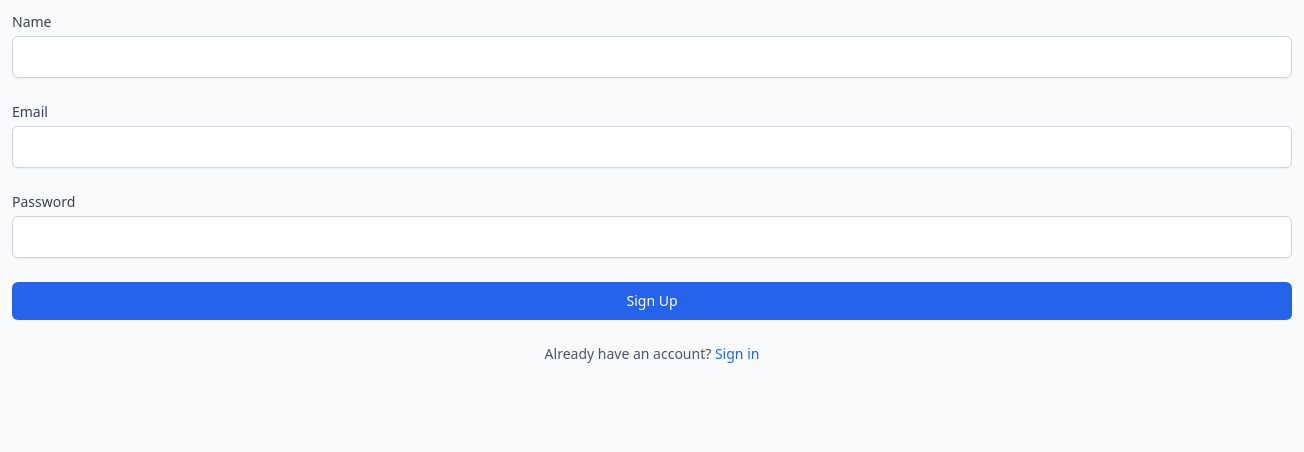
Scenario: SignupForm › should show error for short name
Type "ab" into the field labelled "Name" at (652, 57), box [12, 36, 1292, 78]
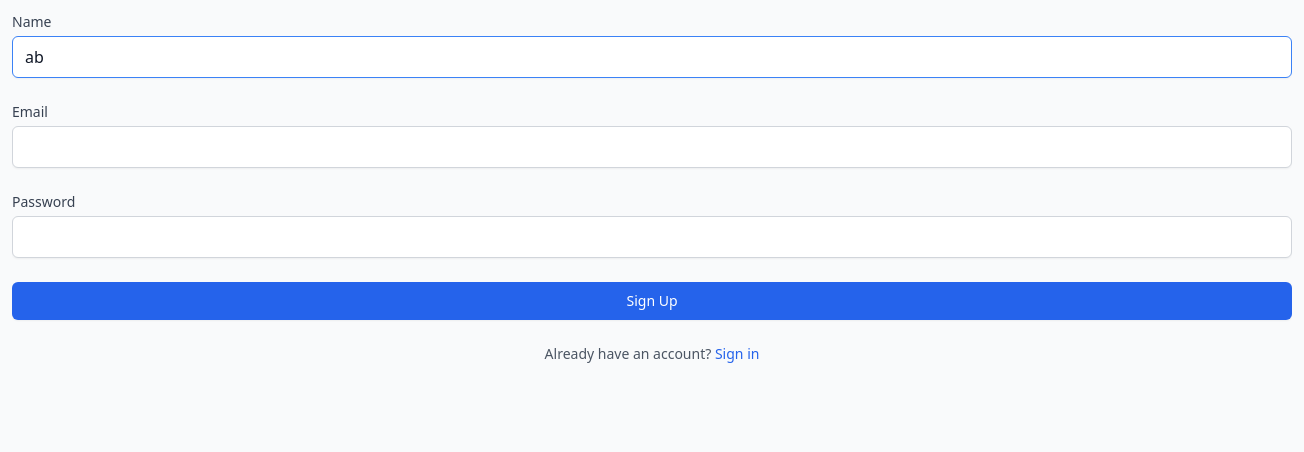
Click the button "Sign Up" at (652, 301), box [12, 282, 1292, 320]
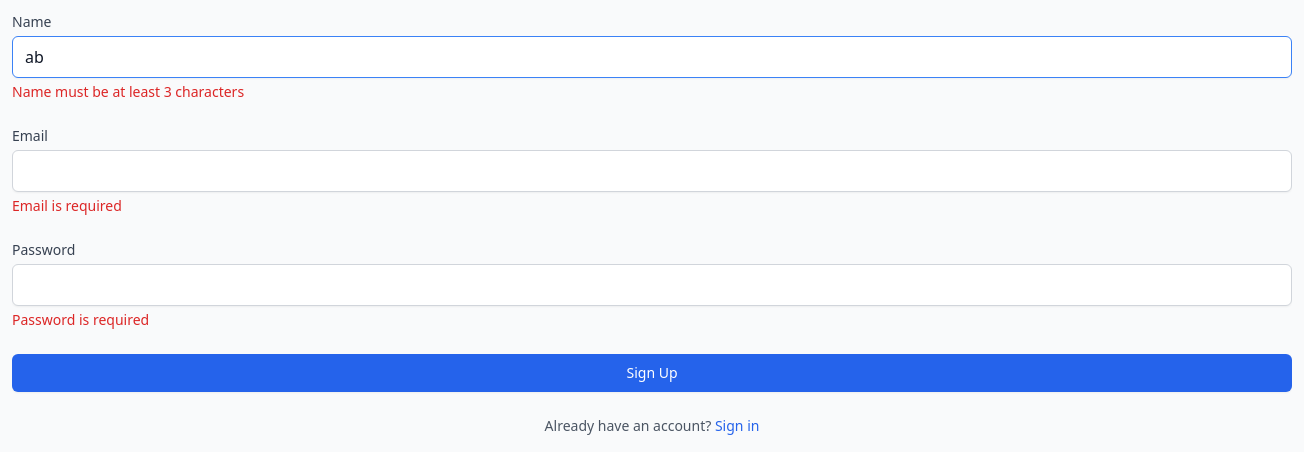
Expected: the text "Name must be at least 3 characters" is shown, [12, 82, 244, 101]
